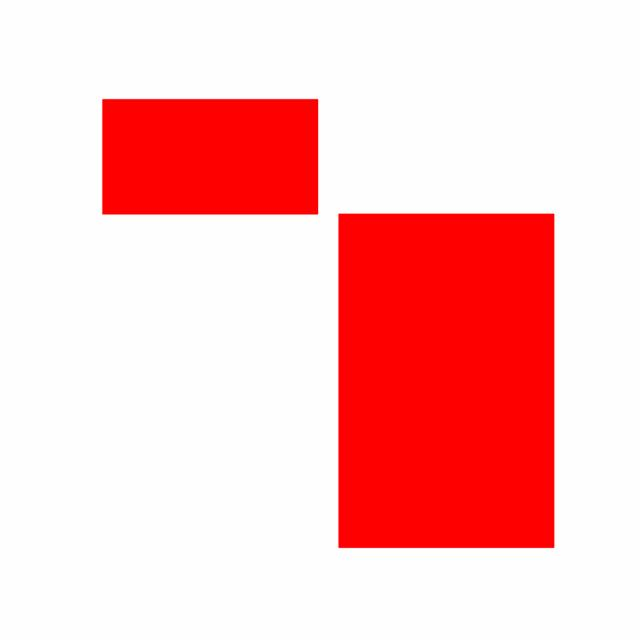Marubozu: (327, 210, 565, 550)
